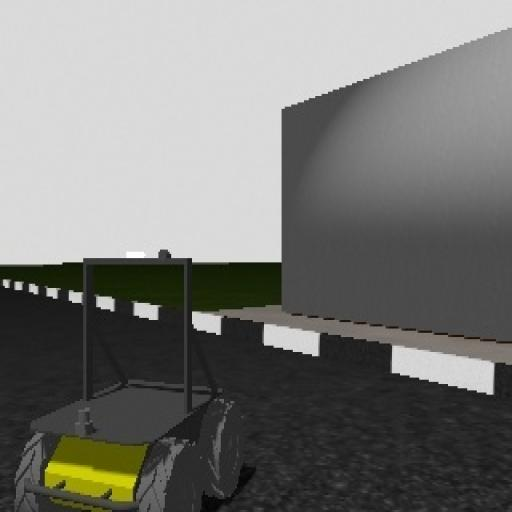huskya200: (10, 235, 256, 512)
